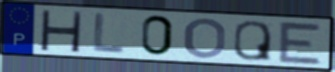0: (139, 14, 175, 58)
E: (276, 19, 324, 66)
H: (37, 8, 84, 54)
L: (91, 11, 126, 56)
O: (182, 16, 228, 60)
Q: (232, 19, 274, 62)
